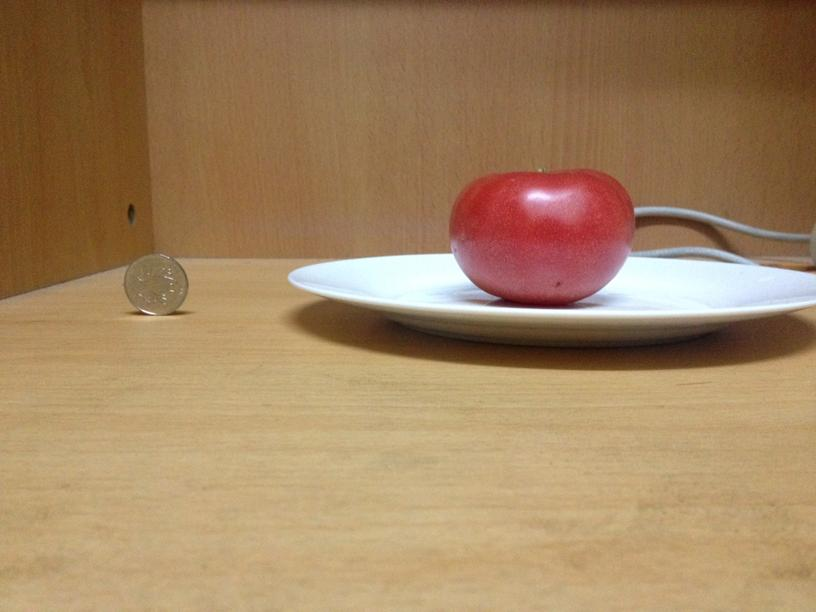coin: (124, 252, 191, 315)
tomato: (452, 167, 634, 307)
